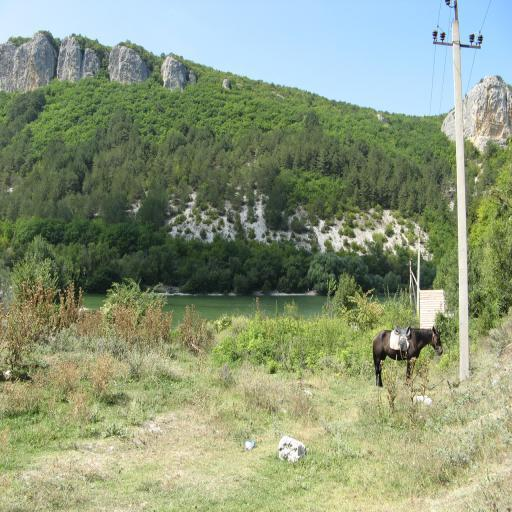horse: (372, 326, 443, 388)
